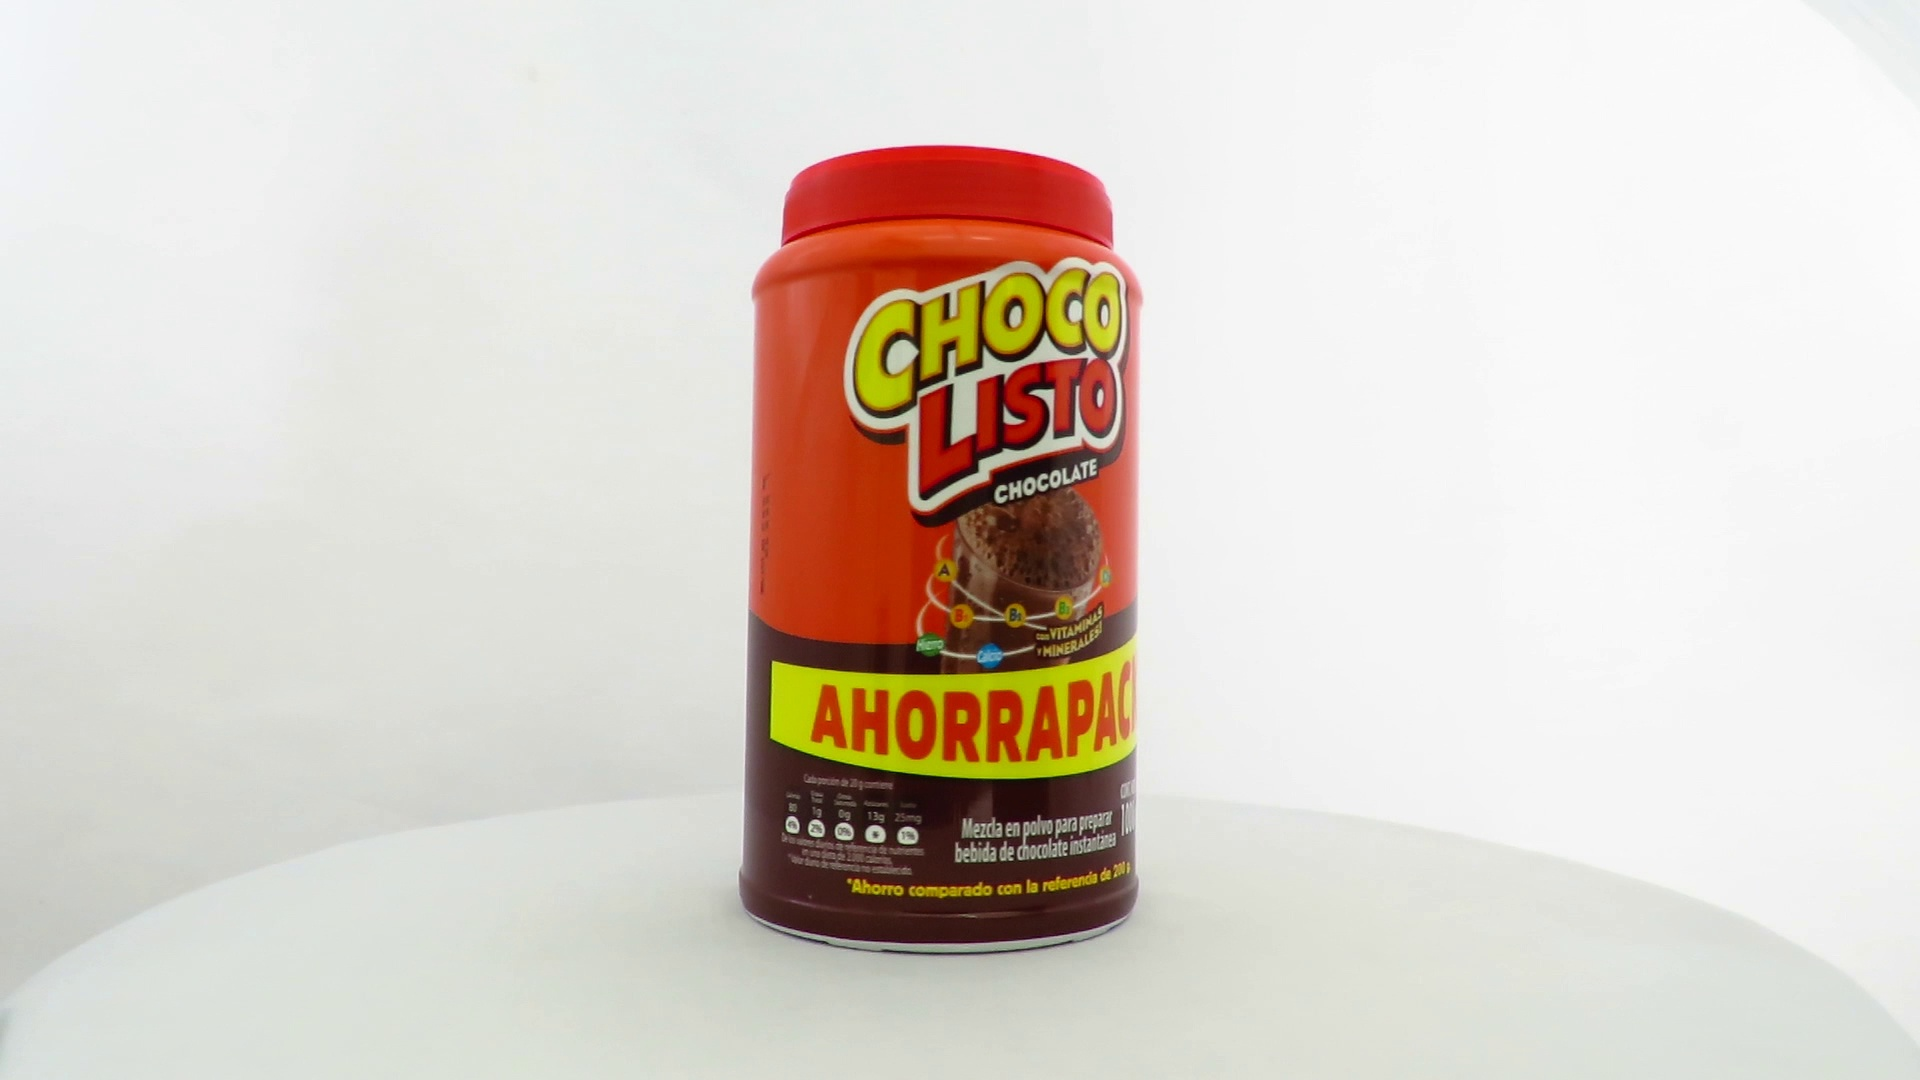COL0170103TRR00100: (733, 140, 1149, 963)
